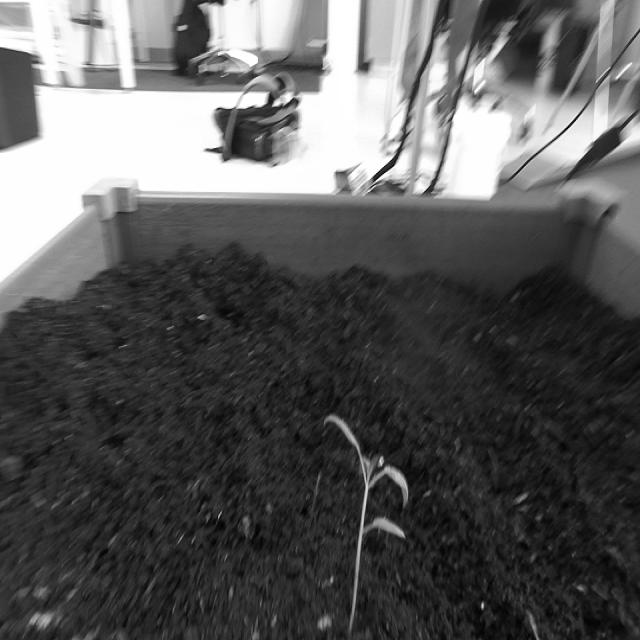Healthy: (315, 382, 421, 640)
